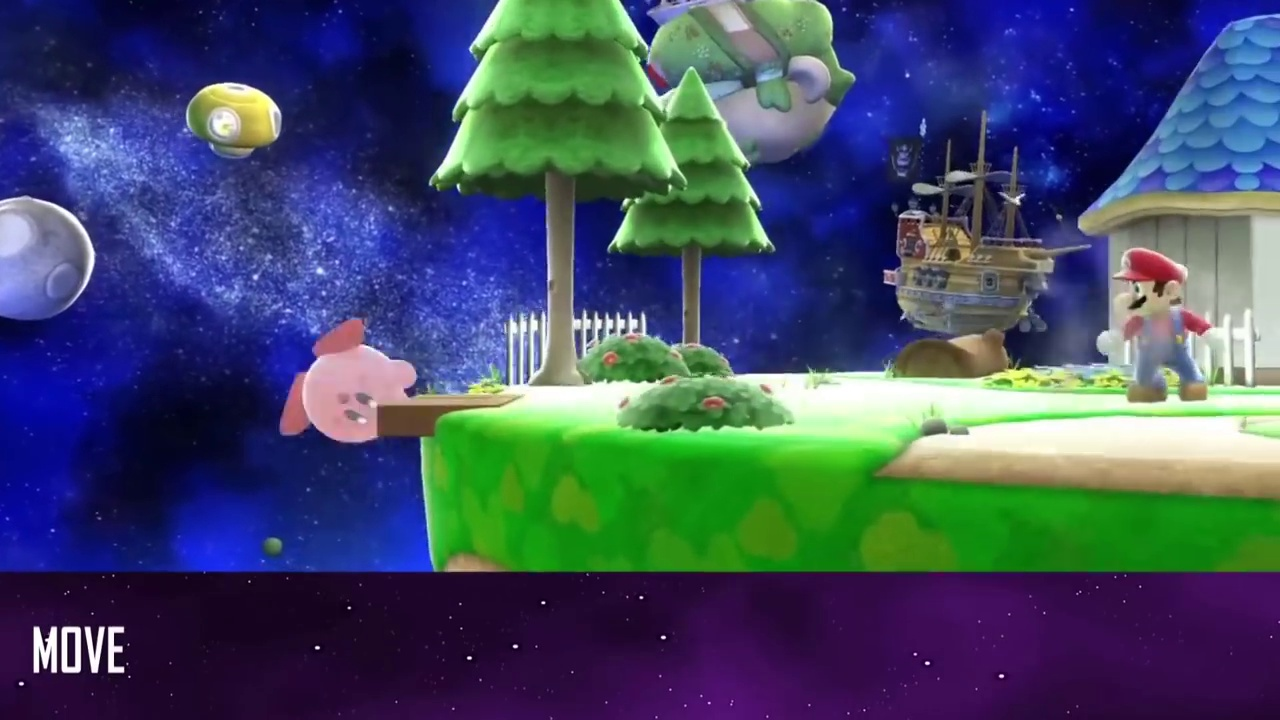Mario: (1095, 249, 1227, 404)
